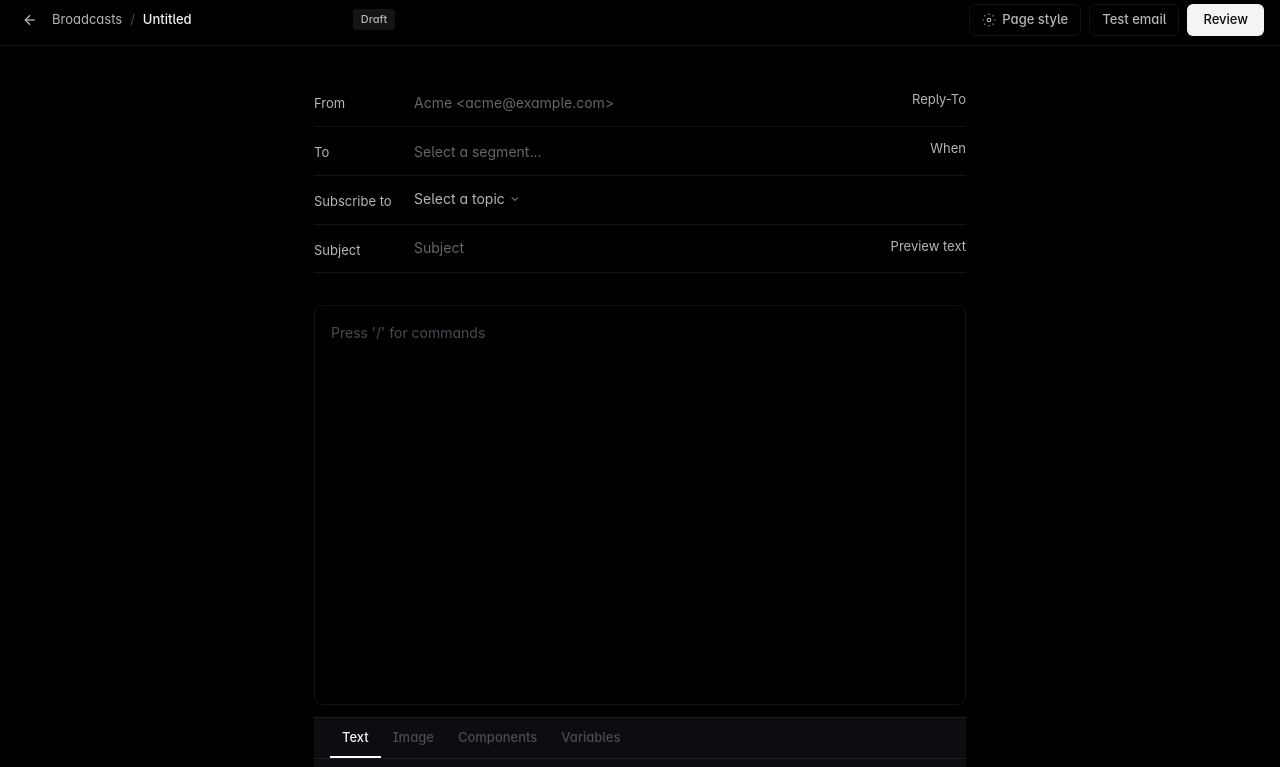
BroadcastEditor — Block Editor › components tab shows layout block types
The width and height of the screenshot is (1280, 767).
Click Components tab
Click the button "Components": x=498, y=738 [446,718,549,758]
(page scrolled)
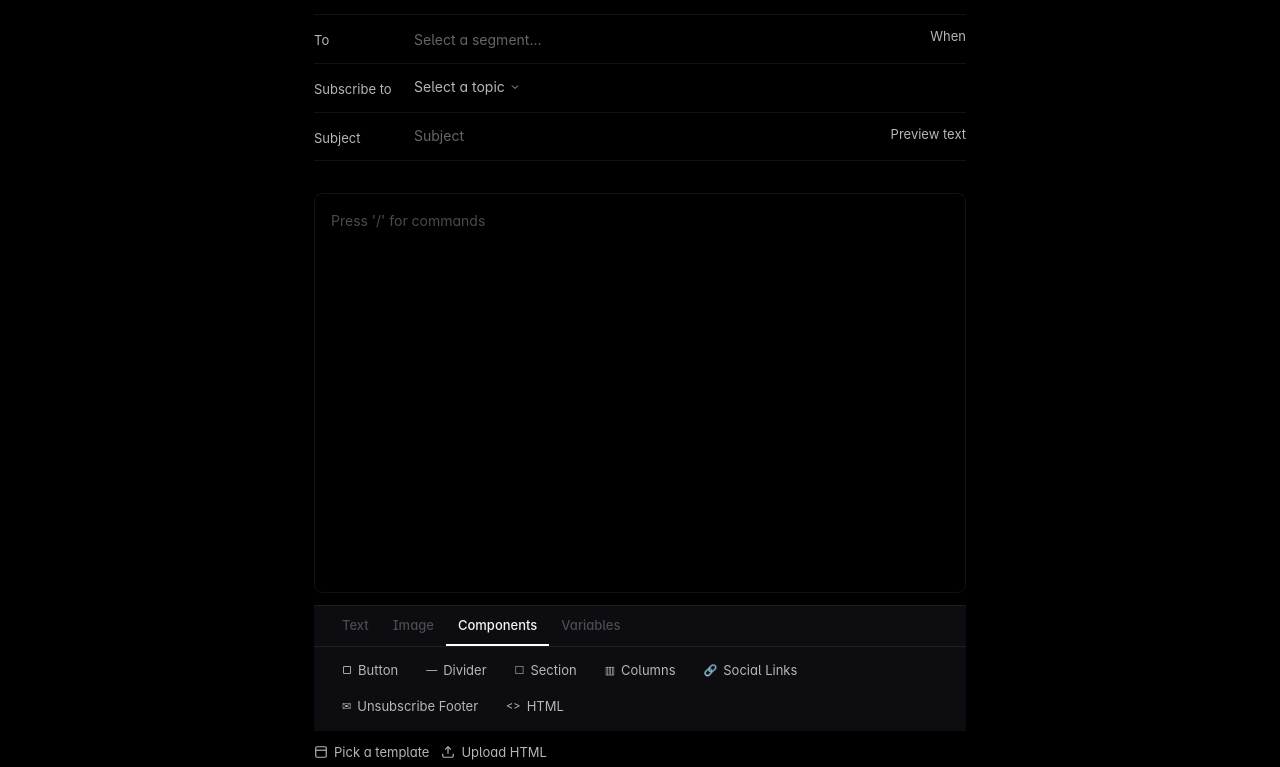
Now the button "▢ Button" is shown, box [330,654,410,686]
Now the button "— Divider" is shown, box [414,654,498,686]
Now the button "<> HTML" is shown, box [494,690,576,722]
